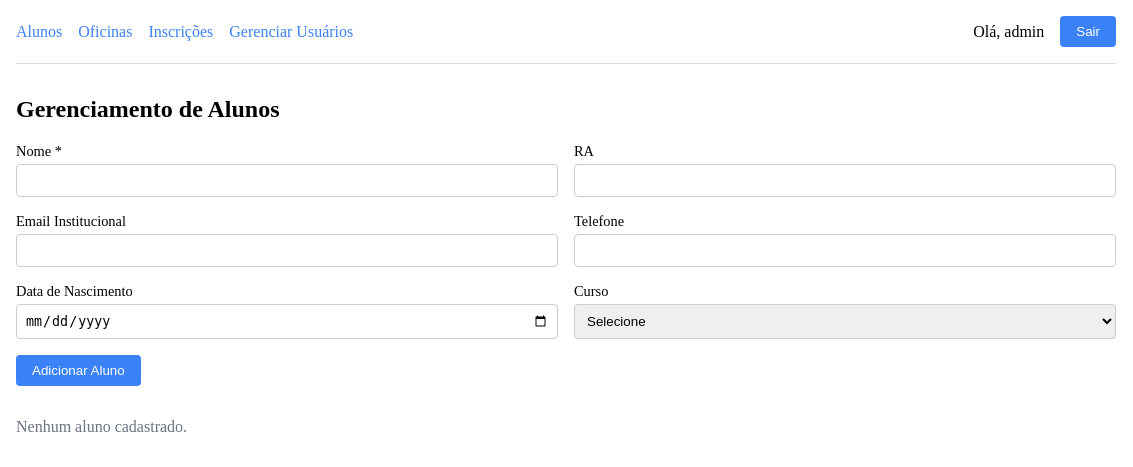
Test: AlunosView › mensagem de erro some quando telefone atinge 10 caracteres
Type "12345" into the field named "Mínimo 10 dígitos (ex: (41) 99999-9999)".
click(845, 250); type("12345")  # box [574, 234, 1116, 267]
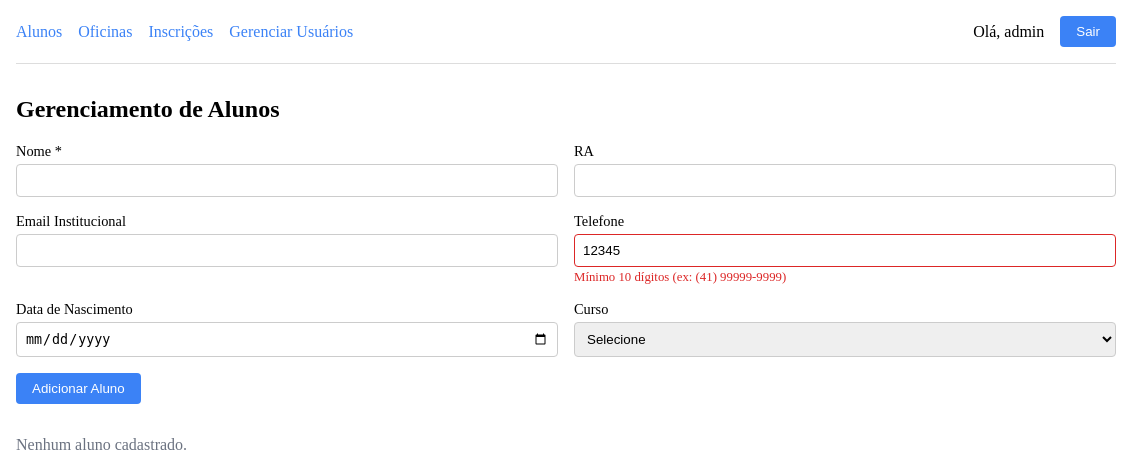
Result: the text "Mínimo 10 dígitos" is shown at [574, 270, 786, 284]
Replace the text in the field named "Mínimo 10 dígitos (ex: (41) 99999-9999)" with "1234567890" at (845, 250), box [574, 234, 1116, 267]
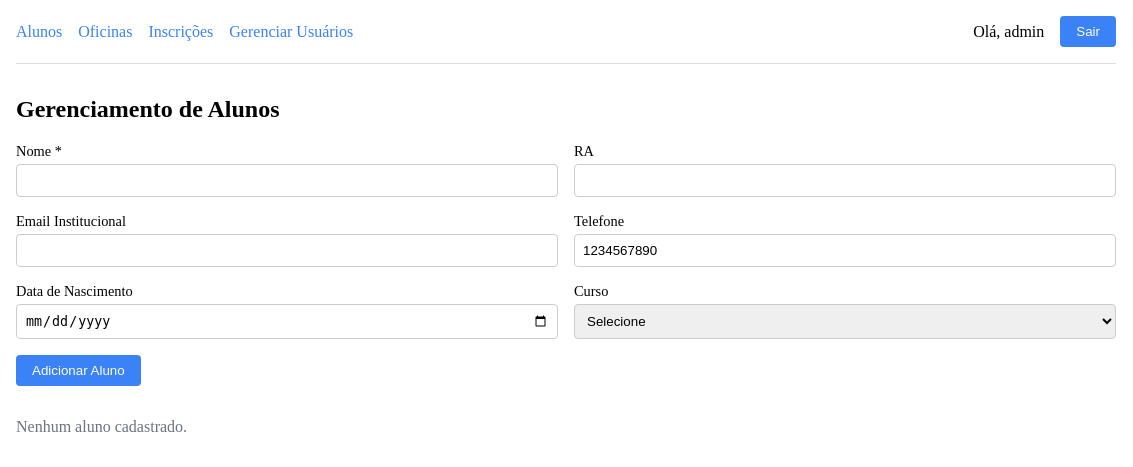
Result: the text "Mínimo 10 dígitos" is gone
